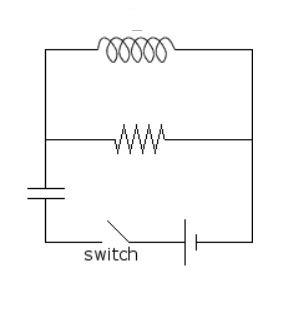resistor: (93, 115, 181, 163)
